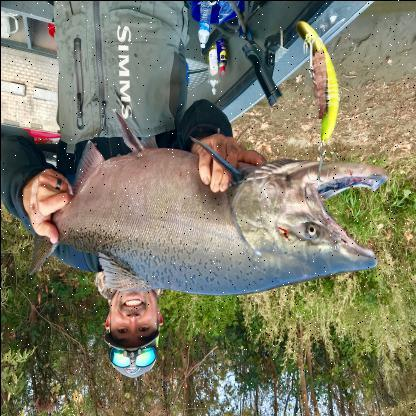fish: (20, 104, 390, 294)
